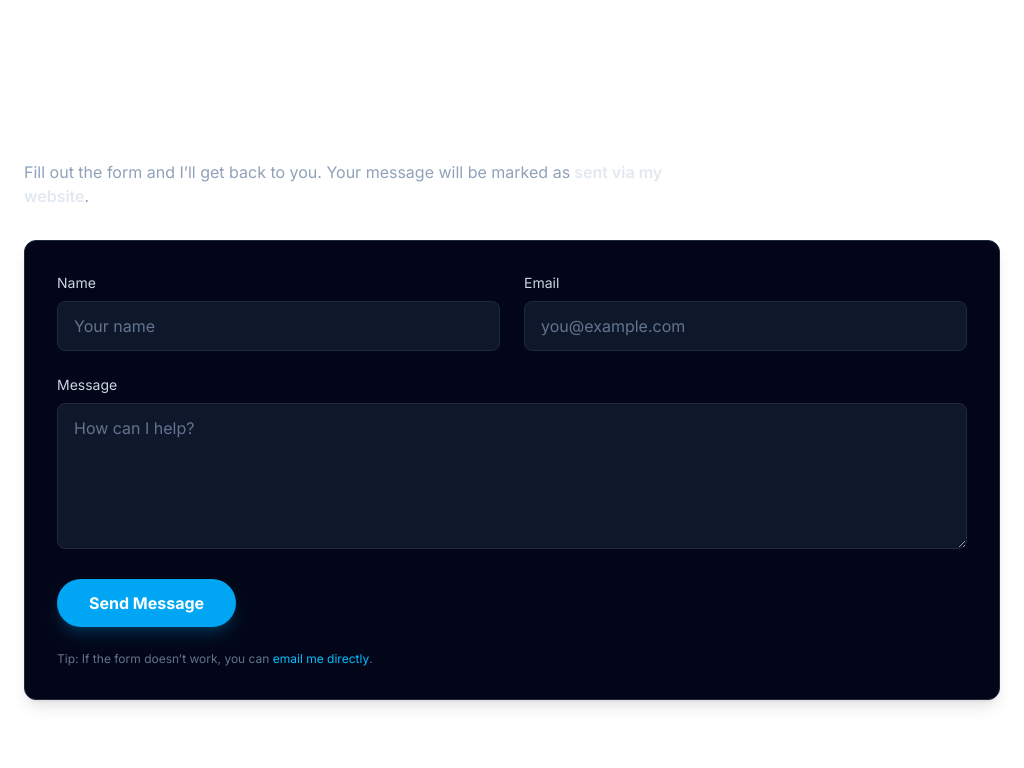
Test: ContactSection › focus management after a failed submit › leaves focus on the Send button when the fields are valid but the access key is malformed
Type "Jane Doe" into the field labelled "Name" at x=278, y=326, box [57,301,500,351]
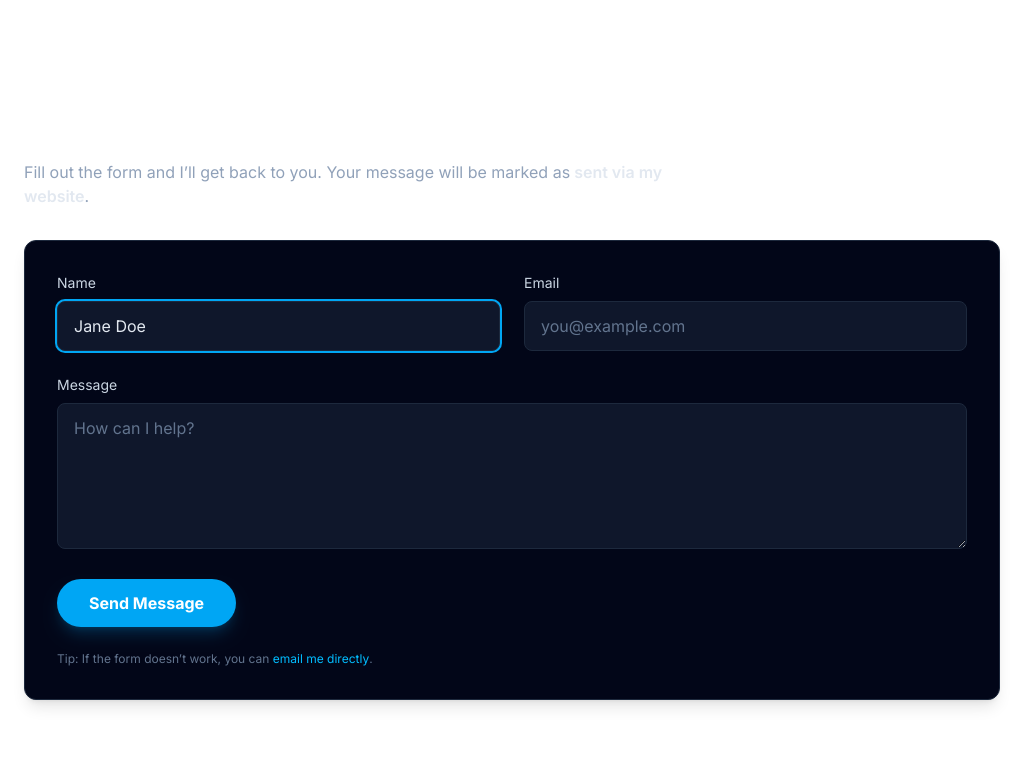
Type "jane@example.com" into the field labelled "Email" at x=746, y=326, box [524,301,967,351]
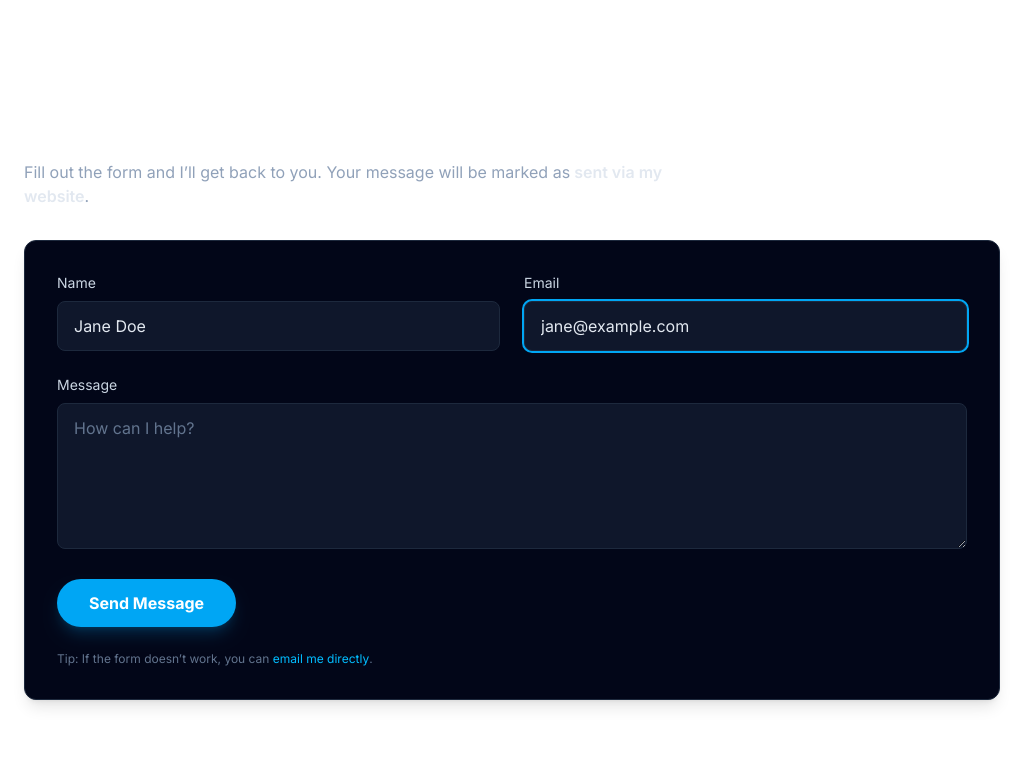
Type "Hello, this is a long enough message." into the text box labelled "Message" at x=512, y=476, box [57,403,967,549]
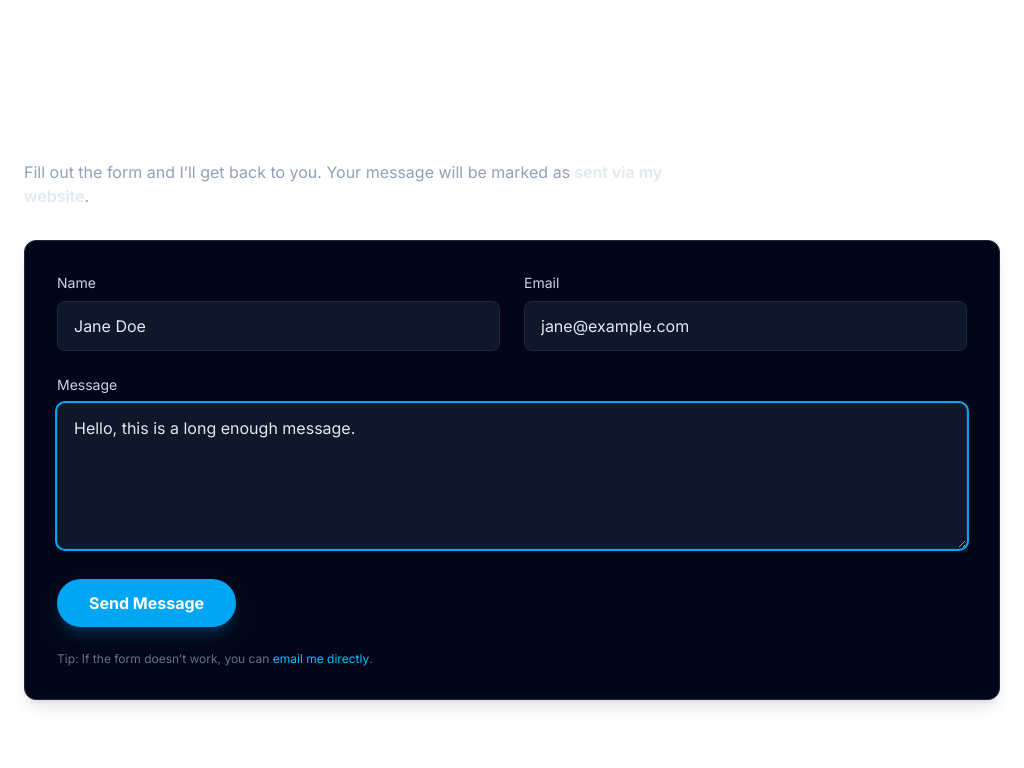
Click the button "Send Message" at x=147, y=603, box [57,579,236,627]
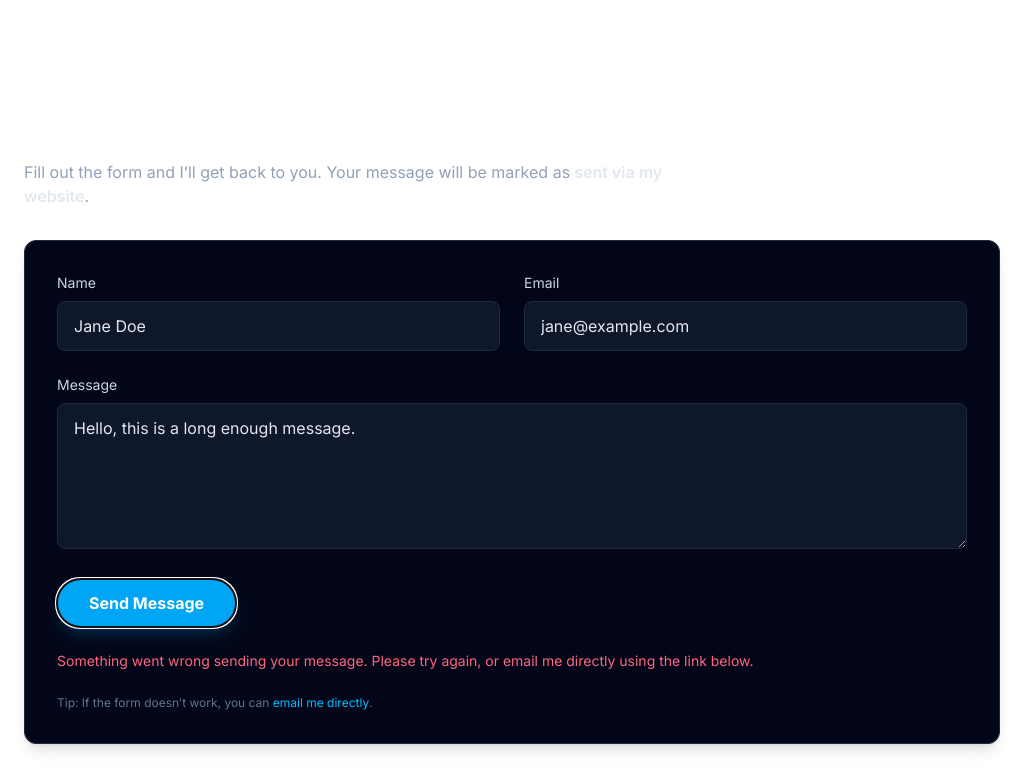
Check: the message shows "Something went wrong", box [57,652,754,669]
